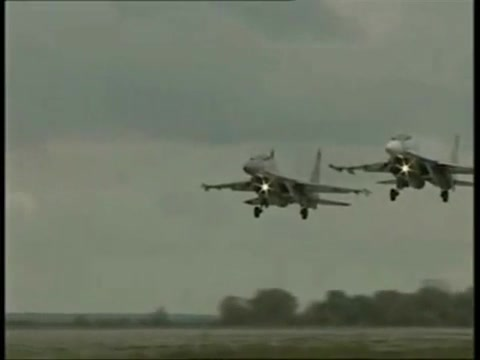aeroplane: (201, 148, 374, 221)
